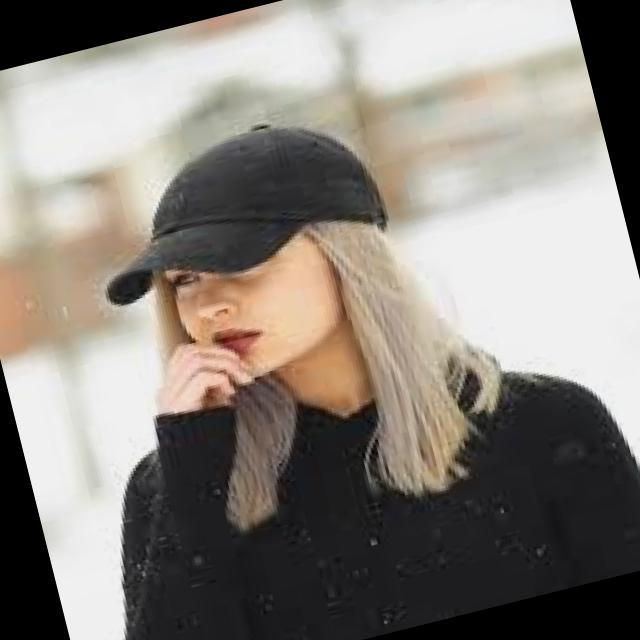cap: (12, 61, 422, 352)
